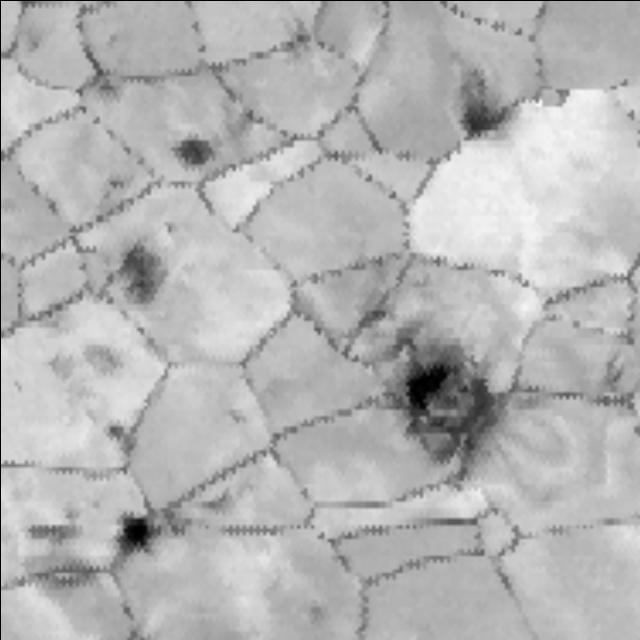good_void: (387, 335, 511, 498), (100, 233, 182, 317), (48, 339, 125, 420), (446, 91, 511, 148), (109, 510, 165, 562), (164, 127, 226, 172), (24, 506, 89, 542), (349, 309, 385, 335), (103, 420, 126, 442), (156, 220, 177, 238), (226, 406, 242, 425), (109, 177, 125, 192)
